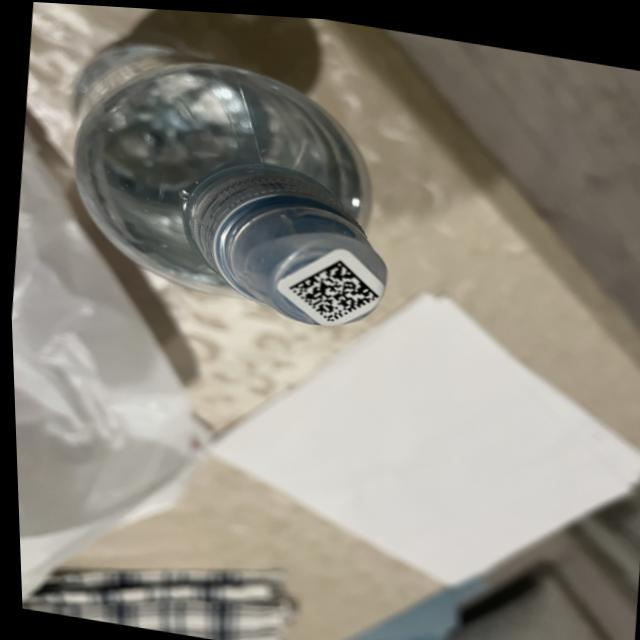datamatrix: (282, 248, 380, 325)
